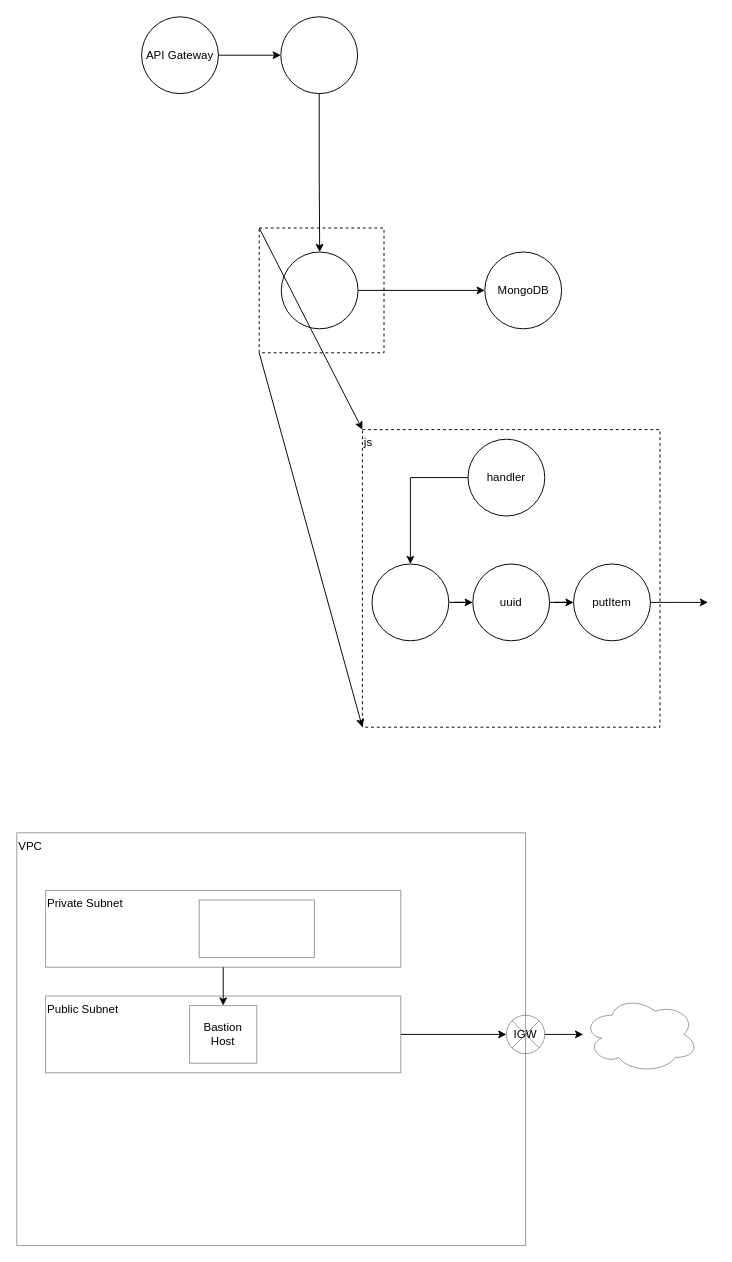
Image size: 732x1262. Some labels were removed from this diagram. Here are the shapes that lost their labels. From the top down, the centre of each, then its label:
At point 319,55: "SQS".
At point 319,290: "Lambda".
At point 410,602: "get message".
At point 256,928: "App & Supporting Services".
At point 640,1034: "Internet".
